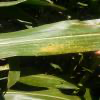Corn rust leaf: (1, 19, 100, 60)
